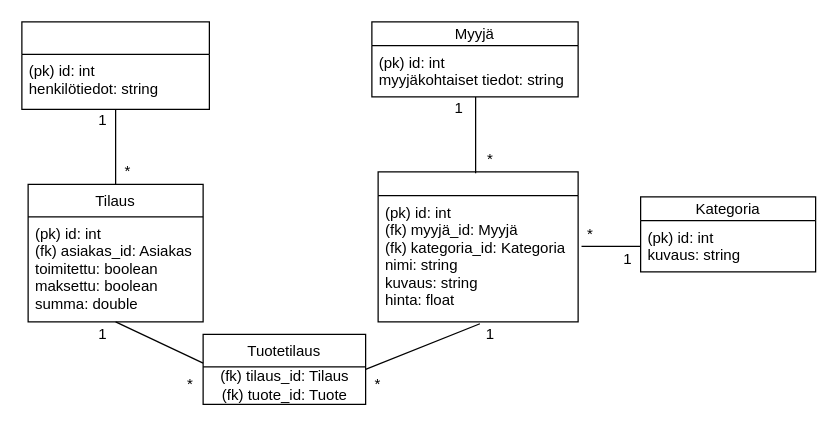
Image size: 838x426. Some labels were removed from this diagram. The box of each missing label's shape, as (x1, y1, x2, y2) in pixels:
Asiakas: (21, 21, 209, 109)
Tuote: (377, 171, 578, 322)
